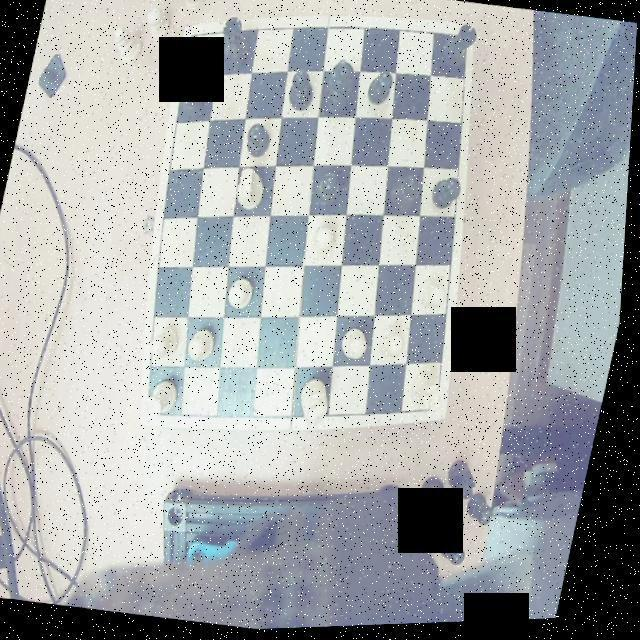chess-table-corners: (143, 398, 172, 428), (424, 398, 452, 427), (455, 26, 478, 58), (184, 23, 208, 50)
